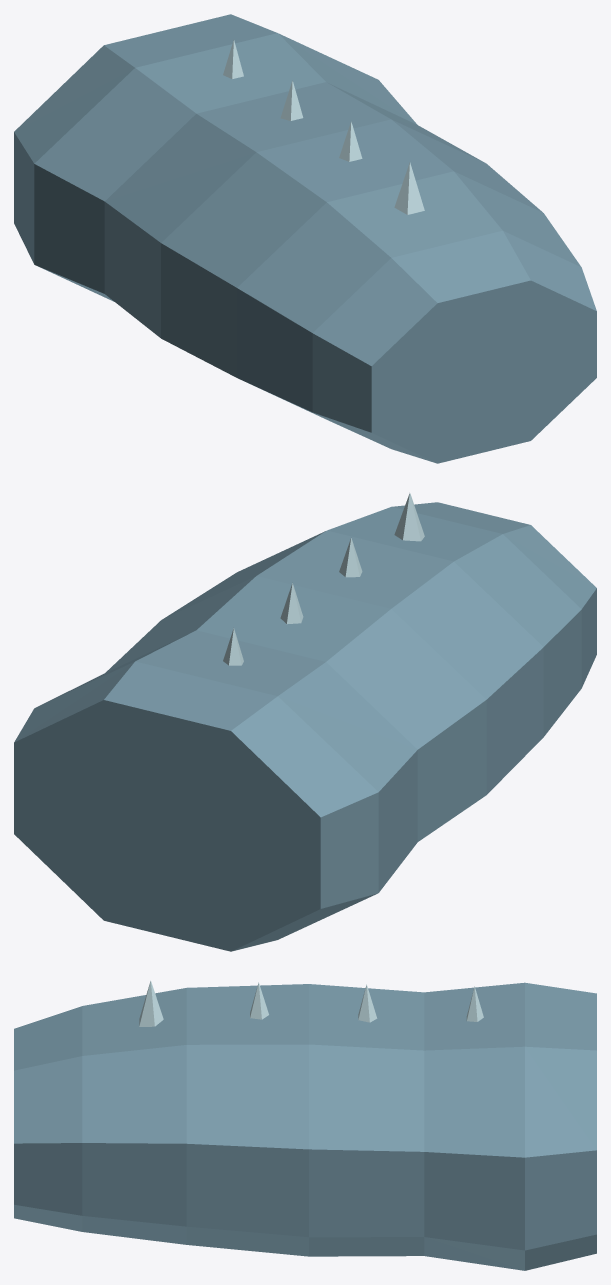
File: frost_predator_torso.glb
The picture shows the model from 3 angles, top to bottom: view 1: azimuth 30°, elevation 25°; view 2: azimuth 150°, elevation 25°; view 3: azimuth 270°, elevation 25°; orthographic projection. The views are drawn at different scales.
Parts seen in each view (by area): view 1: frost_predator_torso; view 2: frost_predator_torso; view 3: frost_predator_torso.
Boxes of the visible parts, left/top/right/bottom form: frost_predator_torso: left=14, top=14, right=596, bottom=463; frost_predator_torso: left=14, top=493, right=596, bottom=951; frost_predator_torso: left=14, top=980, right=596, bottom=1270.
Size of the model in its own units: 1.02 by 0.7937 by 1.62.
